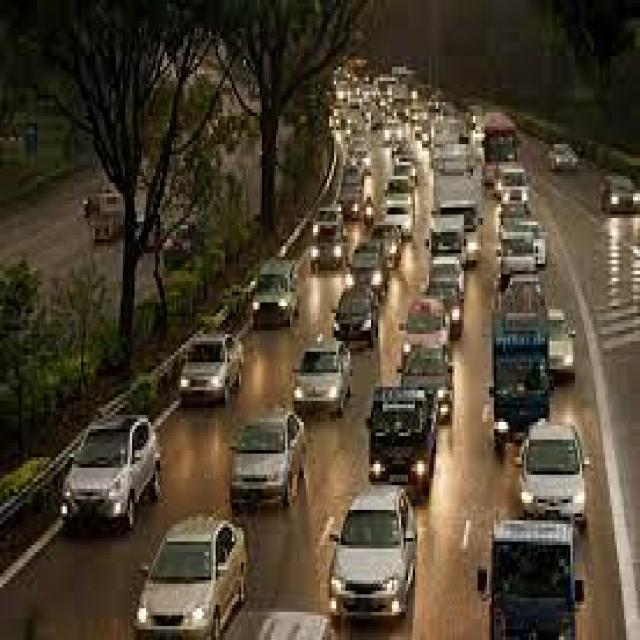vehicle: (27, 366, 159, 538), (477, 496, 618, 640), (478, 300, 576, 426), (179, 478, 248, 640), (340, 478, 418, 613), (358, 371, 446, 482), (276, 314, 354, 419), (162, 342, 260, 408), (223, 418, 303, 494), (502, 433, 594, 498), (246, 256, 305, 332), (350, 235, 397, 311), (569, 188, 640, 232), (550, 133, 592, 192), (310, 213, 348, 271), (499, 248, 546, 292), (386, 185, 421, 236)
